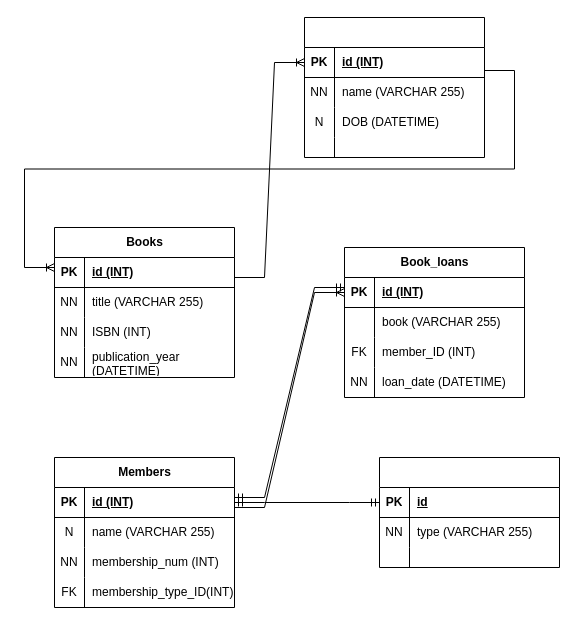
This 577x625 diagram has some shape labels left out. Here are the shapes that lost their labels. From the top down, the box of each, then its label:
(304, 16, 484, 158): Authors
(378, 456, 560, 568): Membership_type
